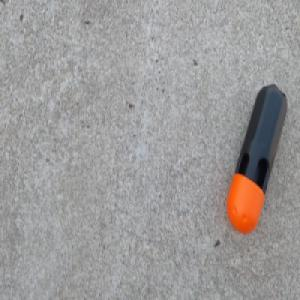PlasticPart: (225, 81, 288, 235)
